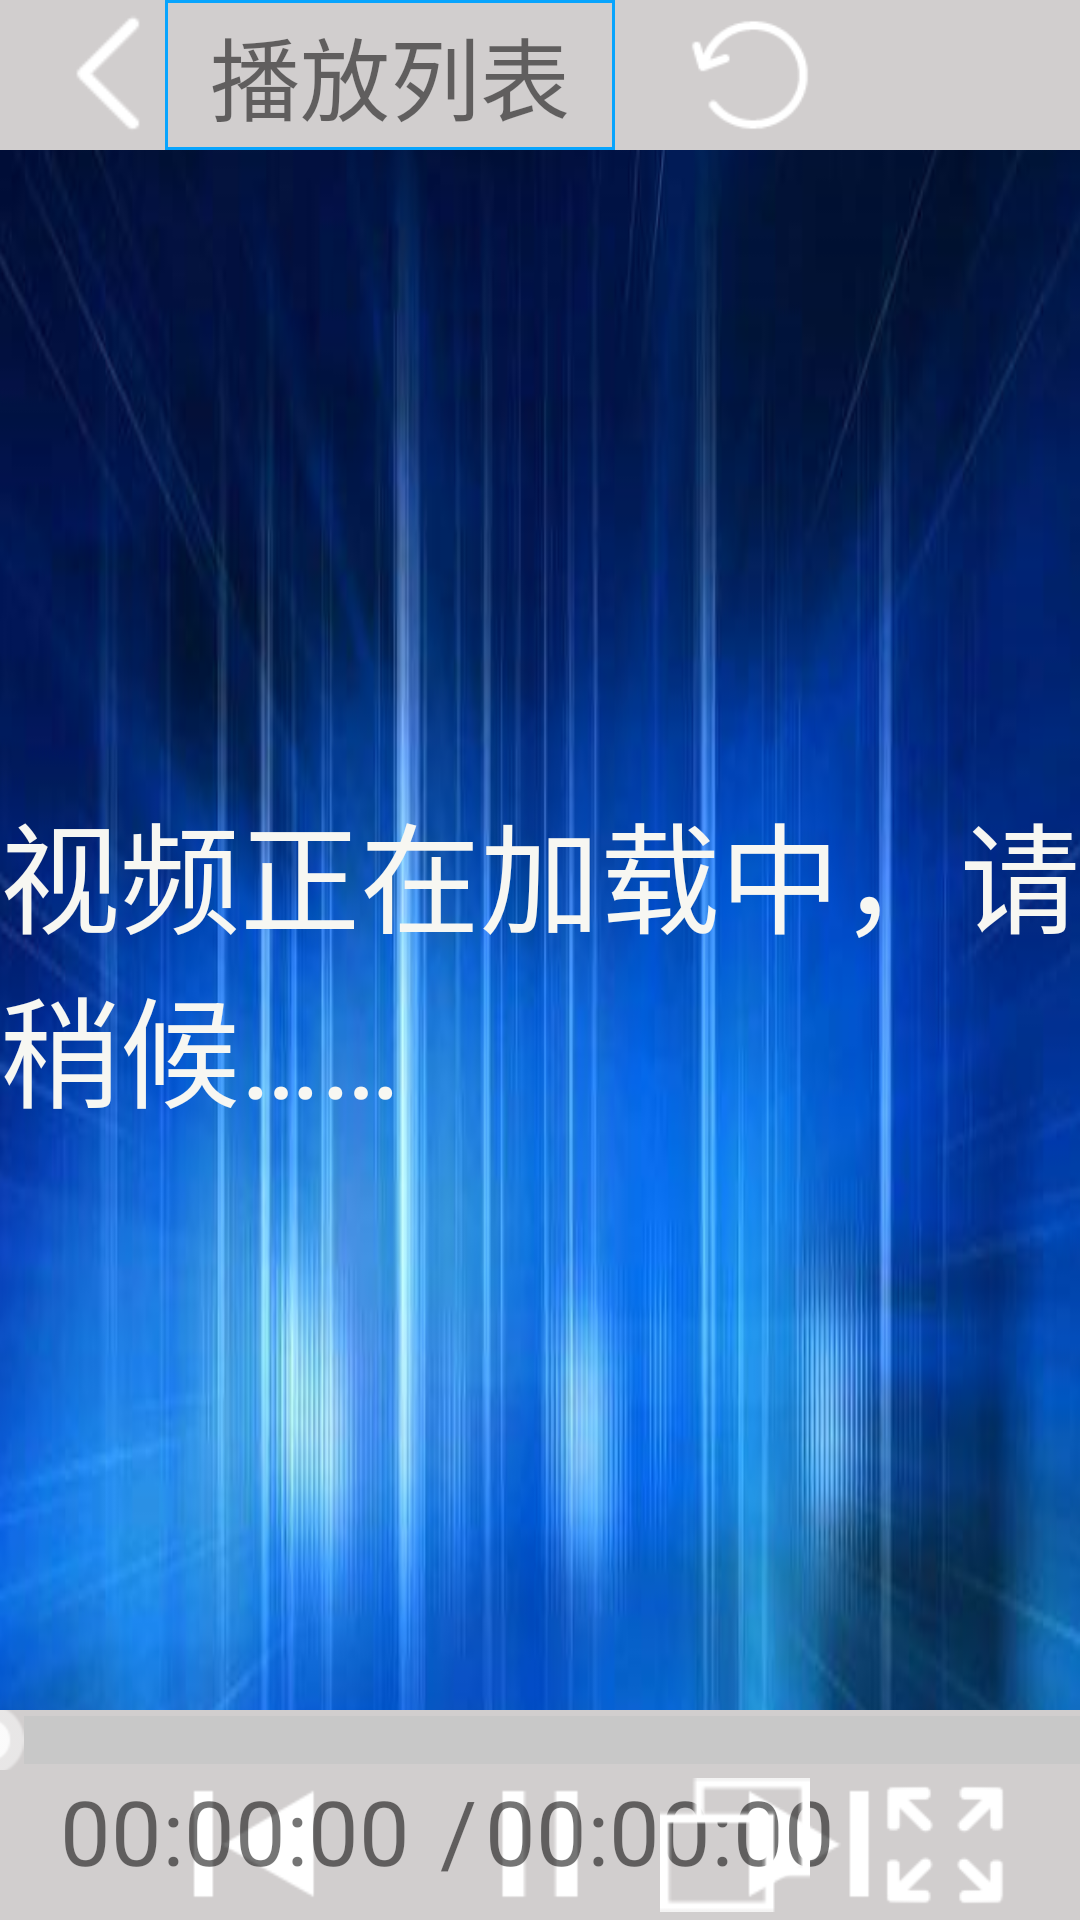

Icon bounding boxes for this 1080×1920 phone screenshot, format (x1, y1, x2, y2):
player back: (77, 18, 139, 129)
player endview replay: (693, 21, 807, 129)
